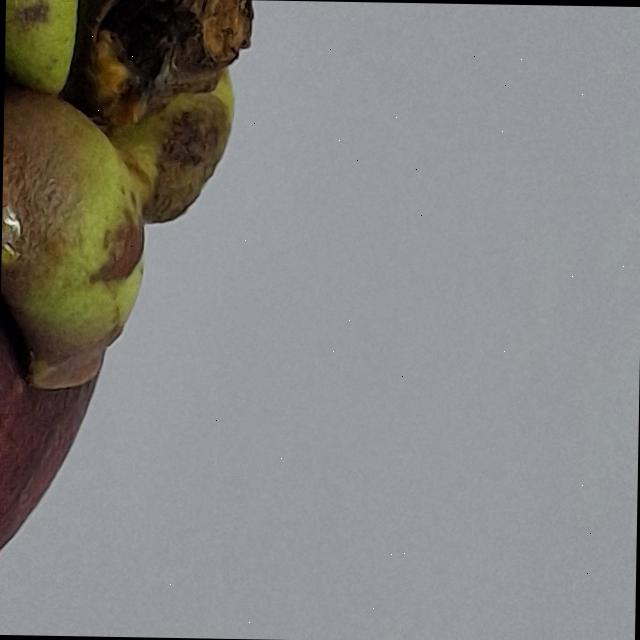mangosteen: (0, 0, 285, 639)
